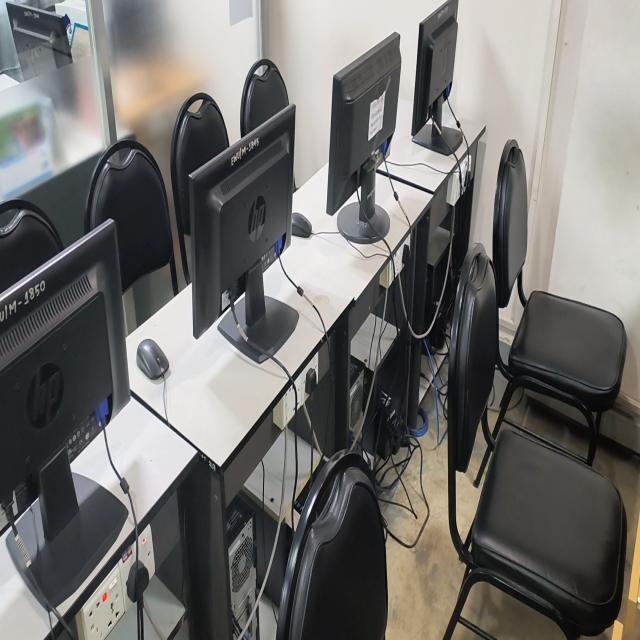Chair: (443, 244, 627, 639), (490, 140, 627, 466), (276, 450, 388, 639), (85, 140, 177, 293), (171, 93, 229, 249), (0, 199, 63, 293), (240, 59, 289, 136)
Cpu: (227, 505, 257, 628), (349, 356, 369, 449), (245, 615, 259, 639)
Monitor: (0, 220, 130, 609), (189, 105, 299, 363), (327, 33, 401, 244), (411, 0, 462, 155)
